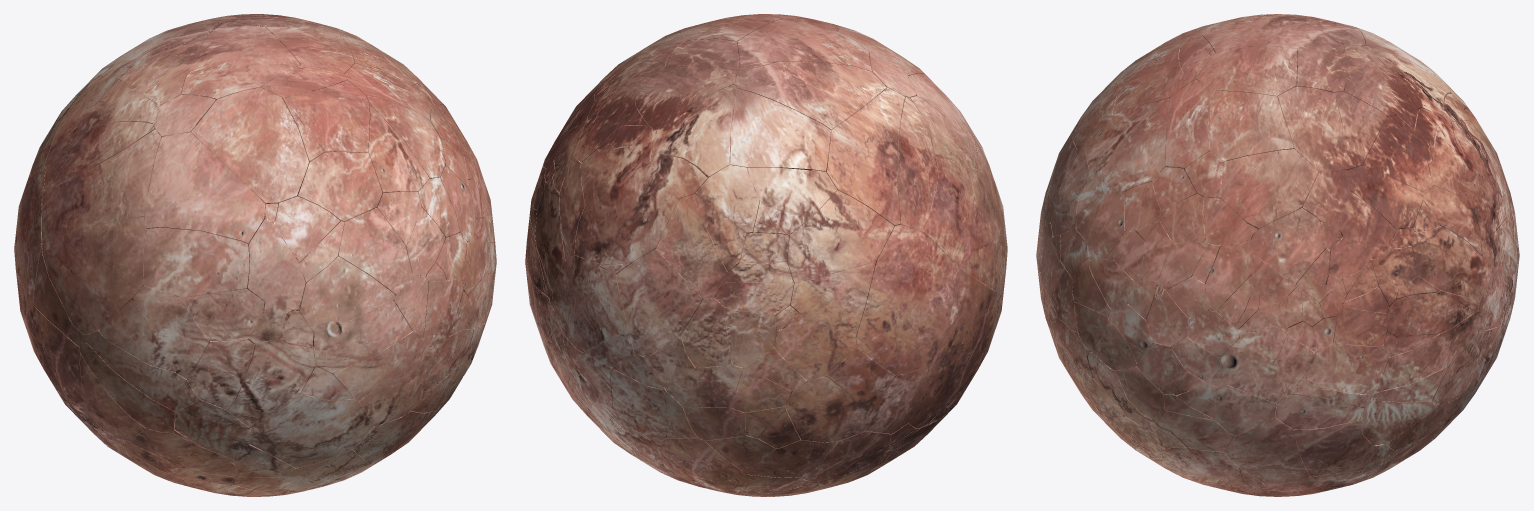
Rendered from Makemake (Shattered).dae.
3 renders of one model, left to right at view 1: azimuth 30°, elevation 25°; view 2: azimuth 150°, elevation 25°; view 3: azimuth 270°, elevation 25°, orthographic.
Visible parts, largest first — view 1: Sphere_cell.437, Sphere_cell.433, Sphere_cell.393, Sphere_cell.002, Sphere_cell.423, Sphere_cell.452, Sphere_cell.066, Sphere_cell.410, Sphere_cell.442, Sphere_cell.201, Sphere_cell.441, Sphere_cell.431 (+54 smaller); view 2: Sphere_cell.325, Sphere_cell.356, Sphere_cell.285, Sphere_cell.365, Sphere_cell.360, Sphere_cell.338, Sphere_cell.021, Sphere_cell.264, Sphere_cell.002, Sphere_cell.359, Sphere_cell.066, Sphere_cell.385 (+55 smaller); view 3: Sphere_cell.039, Sphere_cell.079, Sphere_cell.040, Sphere_cell.015, Sphere_cell.016, Sphere_cell.163, Sphere_cell.082, Sphere_cell.285, Sphere_cell.471, Sphere_cell.202, Sphere_cell.066, Sphere_cell.280 (+93 smaller).
Boxes of the visible parts, bbox=[...] form: Sphere_cell.437: bbox=[144, 131, 265, 243]; Sphere_cell.433: bbox=[190, 87, 309, 203]; Sphere_cell.393: bbox=[42, 216, 146, 334]; Sphere_cell.002: bbox=[41, 128, 162, 244]; Sphere_cell.423: bbox=[143, 227, 249, 297]; Sphere_cell.452: bbox=[249, 392, 373, 468]; Sphere_cell.066: bbox=[181, 22, 300, 100]; Sphere_cell.410: bbox=[227, 337, 316, 428]; Sphere_cell.442: bbox=[297, 152, 382, 227]; Sphere_cell.201: bbox=[299, 256, 395, 332]; Sphere_cell.441: bbox=[285, 80, 369, 152]; Sphere_cell.431: bbox=[313, 300, 412, 373]; Sphere_cell.325: bbox=[855, 224, 957, 375]; Sphere_cell.356: bbox=[825, 87, 905, 226]; Sphere_cell.285: bbox=[574, 163, 682, 265]; Sphere_cell.365: bbox=[735, 61, 886, 129]; Sphere_cell.360: bbox=[730, 88, 830, 171]; Sphere_cell.338: bbox=[786, 190, 894, 282]; Sphere_cell.021: bbox=[552, 255, 636, 367]; Sphere_cell.264: bbox=[616, 249, 702, 357]; Sphere_cell.002: bbox=[909, 96, 974, 262]; Sphere_cell.359: bbox=[651, 84, 737, 193]; Sphere_cell.066: bbox=[737, 19, 872, 72]; Sphere_cell.385: bbox=[908, 310, 993, 428]; Sphere_cell.039: bbox=[1221, 149, 1318, 229]; Sphere_cell.079: bbox=[1209, 90, 1294, 161]; Sphere_cell.040: bbox=[1197, 46, 1297, 99]; Sphere_cell.015: bbox=[1277, 86, 1341, 171]; Sphere_cell.016: bbox=[1411, 226, 1483, 299]; Sphere_cell.163: bbox=[1224, 404, 1309, 484]; Sphere_cell.082: bbox=[1251, 208, 1326, 284]; Sphere_cell.285: bbox=[1451, 120, 1503, 242]; Sphere_cell.471: bbox=[1165, 79, 1216, 168]; Sphere_cell.202: bbox=[1104, 97, 1169, 191]; Sphere_cell.066: bbox=[1202, 14, 1337, 52]; Sphere_cell.280: bbox=[1305, 342, 1388, 394].
Size of the model in its own units: 2 by 2 by 2.
